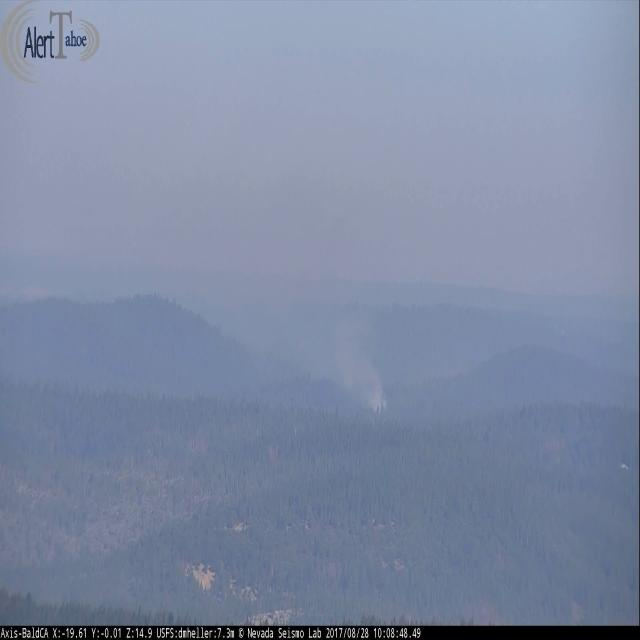smoke: (347, 334, 386, 411)
